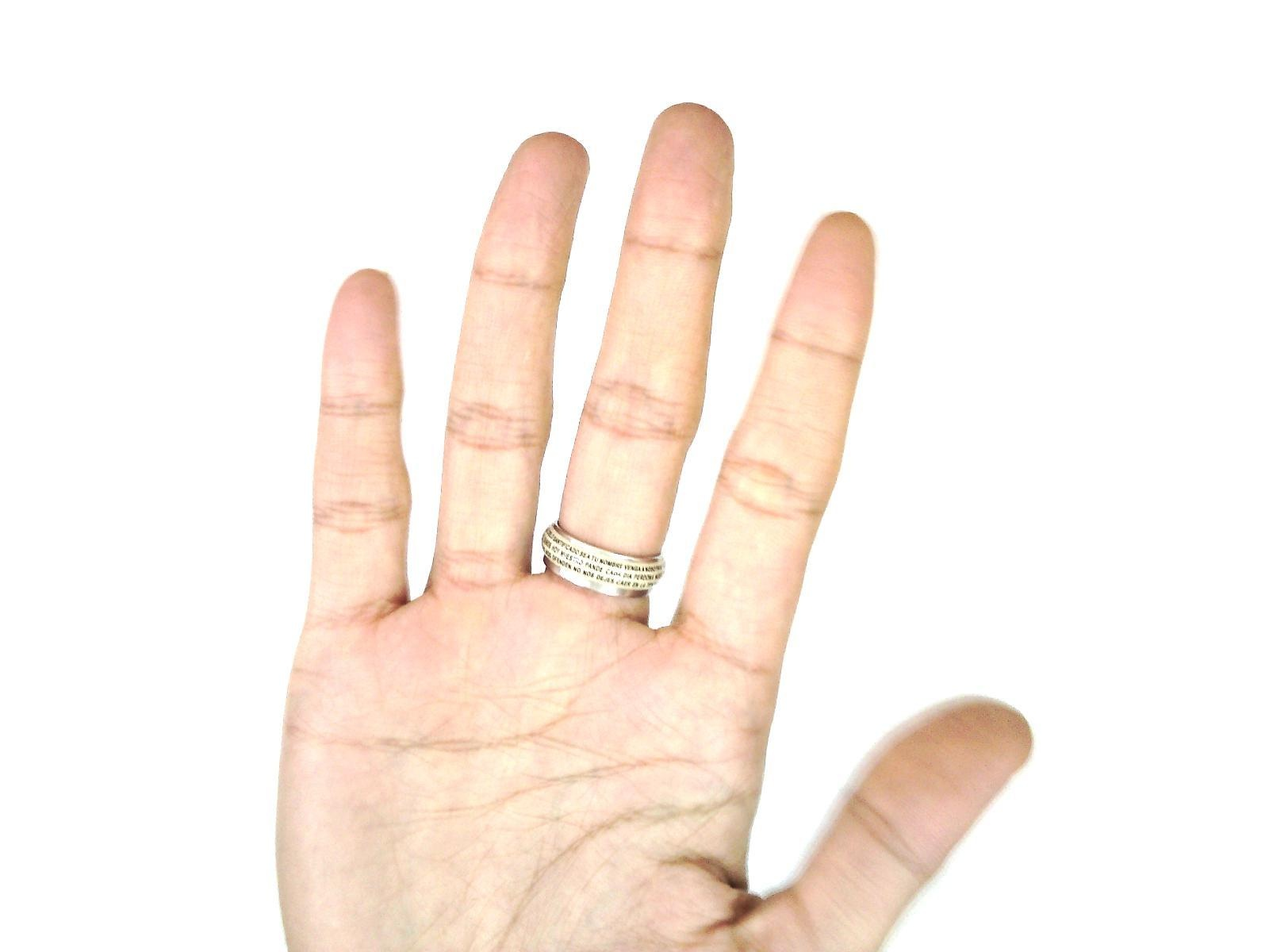open_palm: (270, 102, 1036, 951)
